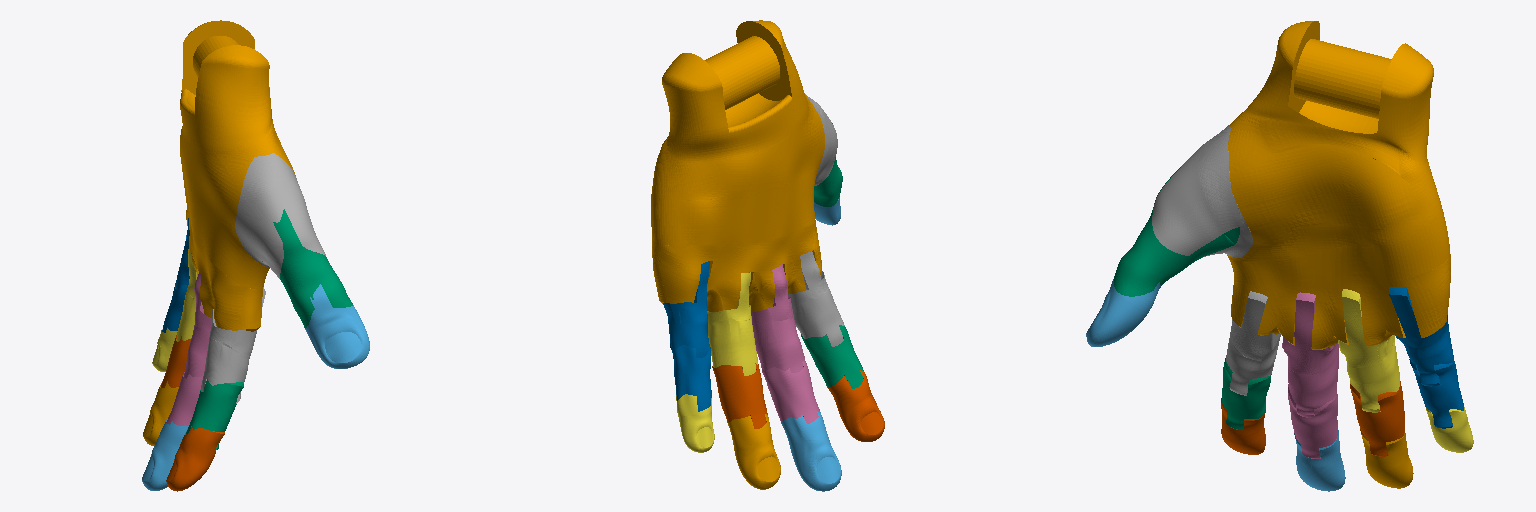
--- Facts derived from the render (not from the file) ---
The picture shows the robot from 3 angles, left to right: view 1: azimuth 30°, elevation 25°; view 2: azimuth 150°, elevation 25°; view 3: azimuth 270°, elevation 25°; orthographic projection.
Model Hand with 16 links and 15 joints (14 revolute, 1 continuous), rooted at base_link, posed all joints at 0.
Links seen in each view (by area): view 1: base_link, bottom1, middle1, top1, bottom2, top2, middle2, top3, bottom3, middle3, top4, bottom4 (+3 smaller); view 2: base_link, bottom3, bottom4, top3, bottom2, top4, middle4, bottom5, top2, middle3, middle2, middle5 (+3 smaller); view 3: base_link, bottom1, bottom3, bottom4, middle1, bottom2, bottom5, top1, middle4, middle3, middle5, middle2 (+4 smaller).
Boxes of the visible links, <box> form: base_link: <box>180,20,295,331</box>; bottom1: <box>235,153,325,278</box>; middle1: <box>273,209,352,328</box>; top1: <box>305,284,369,368</box>; bottom2: <box>202,287,265,403</box>; top2: <box>166,427,224,491</box>; middle2: <box>186,379,243,450</box>; top3: <box>142,419,188,490</box>; bottom3: <box>184,272,211,378</box>; middle3: <box>166,372,202,425</box>; top4: <box>143,381,178,445</box>; bottom4: <box>176,249,196,341</box>; base_link: <box>651,20,824,311</box>; bottom3: <box>751,264,804,372</box>; bottom4: <box>707,272,757,375</box>; top3: <box>781,412,841,491</box>; bottom2: <box>788,251,844,346</box>; top4: <box>727,414,780,489</box>; middle4: <box>712,363,767,428</box>; bottom5: <box>663,261,709,358</box>; top2: <box>826,370,884,441</box>; middle3: <box>762,361,819,423</box>; middle2: <box>801,325,863,388</box>; middle5: <box>670,343,711,411</box>; base_link: <box>1227,21,1450,349</box>; bottom1: <box>1152,125,1252,257</box>; bottom3: <box>1282,292,1338,417</box>; bottom4: <box>1338,289,1399,412</box>; middle1: <box>1114,167,1239,296</box>; bottom2: <box>1226,291,1280,395</box>; bottom5: <box>1389,287,1453,386</box>; top1: <box>1086,279,1162,346</box>; middle4: <box>1350,381,1404,456</box>; middle3: <box>1288,387,1337,458</box>; middle5: <box>1409,359,1463,428</box>; middle2: <box>1222,358,1271,429</box>.
Size in the robot's own frame: 0.0881 by 0.1638 by 0.2358 metres.
16 mesh visuals loaded from 16 distinct referenced files (16 binary STL).

The robot description file, URDF, robot "Hand":
<?xml version='1.0' encoding='utf-8'?>
<robot name="Hand">
    <link name="base_link">
        <inertial>
            <origin xyz="0 0 -1.0" rpy="0.0 0.0 0.0" />
            <mass value="0.5100349823948467" />
            <inertia ixx="0.0008264391413677037" iyy="0.0006620165894960207" izz="0.00032072896517467504" ixy="-7.216347413324594e-05" iyz="-1.524717920817281e-05" ixz="-1.6330394397429294e-05" />
        </inertial>
        <visual name="base_link_visual">
            <origin xyz="0.0 0.0 -1.0" rpy="0.0 0.0 0.0" />
            <geometry>
                <mesh filename="package://hand_model/meshes/base_link.stl" scale="0.001 0.001 0.001" />
            </geometry>
        </visual>
        <collision name="base_link_collision">
            <origin xyz="0.0 0.0 -1.0" rpy="0.0 0.0 0.0" />
            <geometry>
                <mesh filename="package://hand_model/meshes/base_link.stl" scale="0.001 0.001 0.001" />
            </geometry>
        </collision>
    </link>

    <link name="top3">
        <inertial>
            <origin xyz="0.012722847422286049 -0.00128694174633178 0.010404489905321376" rpy="0.0 -1.3444106938820257e-17 0.0" />
            <mass value="0.015457680314432174" />
            <inertia ixx="1.3767339255469641e-06" iyy="2.0192602348552422e-06" izz="1.5080128355590018e-06" ixy="-1.2928118516762063e-07" iyz="-1.7465017772232958e-07" ixz="-6.883034222103327e-07" />
        </inertial>
        <visual name="top3_visual">
            <origin xyz="-0.9826602197979958 -0.27911686466524055 -0.4586221621519428" rpy="-2.821296675084833 -0.8814906431629753 3.0671544154857164" />
            <geometry>
                <mesh filename="package://hand_model/meshes/top3.stl" scale="0.001 0.001 0.001" />
            </geometry>
        </visual>
        <collision name="top3_collision">
            <origin xyz="-0.9826602197979958 -0.27911686466524055 -0.4586221621519428" rpy="-2.821296675084833 -0.8814906431629753 3.0671544154857164" />
            <geometry>
                <mesh filename="package://hand_model/meshes/top3.stl" scale="0.001 0.001 0.001" />
            </geometry>
        </collision>
    </link>
    <link name="middle2">
        <inertial>
            <origin xyz="0.009897910365367081 -0.0019495856220897291 0.008051387989834789" rpy="2.7755575615628914e-17 -1.0755285551056204e-16 -1.3877787807814457e-17" />
            <mass value="0.012894076039031952" />
            <inertia ixx="1.2383161774340025e-06" iyy="1.770745435866814e-06" izz="1.2535590070501384e-06" ixy="-1.0663723407389906e-07" iyz="-1.5170089516659183e-07" ixz="-5.96042439131418e-07" />
        </inertial>
        <visual name="middle2_visual">
            <origin xyz="-0.8715447520348123 -0.4017387039656658 -0.5135323715609377" rpy="-2.6999739724546887 -0.7614179946547722 3.1014950946903546" />
            <geometry>
                <mesh filename="package://hand_model/meshes/middle2.stl" scale="0.001 0.001 0.001" />
            </geometry>
        </visual>
        <collision name="middle2_collision">
            <origin xyz="-0.8715447520348123 -0.4017387039656658 -0.5135323715609377" rpy="-2.6999739724546887 -0.7614179946547722 3.1014950946903546" />
            <geometry>
                <mesh filename="package://hand_model/meshes/middle2.stl" scale="0.001 0.001 0.001" />
            </geometry>
        </collision>
    </link>
    <link name="bottom4">
        <inertial>
            <origin xyz="0.010811403191642423 0.00224597862022923 -0.01564084176257158" rpy="0.0 -5.854691731421724e-18 3.469446951953614e-18" />
            <mass value="0.03121668753846123" />
            <inertia ixx="8.729715306256465e-06" iyy="1.1469907494107448e-05" izz="4.0751613499876614e-06" ixy="5.366721618331331e-07" iyz="-4.309595046802435e-07" ixz="3.816306159498013e-06" />
        </inertial>
        <visual name="bottom4_visual">
            <origin xyz="-0.7039898824469819 0.03129781373543221 0.7650539139115412" rpy="0.0006105661208870561 0.5058939835595102 -3.135054182502079" />
            <geometry>
                <mesh filename="package://hand_model/meshes/bottom4.stl" scale="0.001 0.001 0.001" />
            </geometry>
        </visual>
        <collision name="bottom4_collision">
            <origin xyz="-0.7039898824469819 0.03129781373543221 0.7650539139115412" rpy="0.0006105661208870561 0.5058939835595102 -3.135054182502079" />
            <geometry>
                <mesh filename="package://hand_model/meshes/bottom4.stl" scale="0.001 0.001 0.001" />
            </geometry>
        </collision>
    </link>
    <link name="bottom5">
        <inertial>
            <origin xyz="0.008387131224167304 0.0023328620201057194 -0.010796235093659332" rpy="2.7755575615628914e-17 1.5612511283791264e-17 -6.938893903907228e-18" />
            <mass value="0.022067815971275464" />
            <inertia ixx="5.1544258047036e-06" iyy="6.8385225449267365e-06" izz="2.436128476108711e-06" ixy="3.6456796451971264e-07" iyz="-3.069038826270734e-07" ixz="2.311217830557317e-06" />
        </inertial>
        <visual name="bottom5_visual">
            <origin xyz="-0.6807272860259849 -0.06007375942433248 0.7705833693382032" rpy="-0.11178738593831096 0.49368468926477677 -3.135434766464421" />
            <geometry>
                <mesh filename="package://hand_model/meshes/bottom5.stl" scale="0.001 0.001 0.001" />
            </geometry>
        </visual>
        <collision name="bottom5_collision">
            <origin xyz="-0.6807272860259849 -0.06007375942433248 0.7705833693382032" rpy="-0.11178738593831096 0.49368468926477677 -3.135434766464421" />
            <geometry>
                <mesh filename="package://hand_model/meshes/bottom5.stl" scale="0.001 0.001 0.001" />
            </geometry>
        </collision>
    </link>
    <link name="middle4">
        <inertial>
            <origin xyz="0.008904628907913157 -0.0023792700350409235 0.009796418079486892" rpy="-1.7347234759768075e-18 3.6730736724735486e-17 0.0" />
            <mass value="0.015555655288689765" />
            <inertia ixx="1.8169687685419424e-06" iyy="2.301963124214806e-06" izz="1.3886711238762299e-06" ixy="-5.963028569079452e-08" iyz="-1.4456990212619745e-07" ixz="-7.177123697304761e-07" />
        </inertial>
        <visual name="middle4_visual">
            <origin xyz="-0.8981125742970325 -0.16224186999271287 -0.5842122409040806" rpy="-2.9761268465236808 -0.7551383132902398 3.086243328301658" />
            <geometry>
                <mesh filename="package://hand_model/meshes/middle4.stl" scale="0.001 0.001 0.001" />
            </geometry>
        </visual>
        <collision name="middle4_collision">
            <origin xyz="-0.8981125742970325 -0.16224186999271287 -0.5842122409040806" rpy="-2.9761268465236808 -0.7551383132902398 3.086243328301658" />
            <geometry>
                <mesh filename="package://hand_model/meshes/middle4.stl" scale="0.001 0.001 0.001" />
            </geometry>
        </collision>
    </link>
    <link name="bottom3">
        <inertial>
            <origin xyz="0.013150412773647528 0.0017898924662042438 -0.016454167338748386" rpy="0.0 -4.77048955893622e-17 0.0" />
            <mass value="0.033922844690294" />
            <inertia ixx="9.475880307975722e-06" iyy="1.3211205775148363e-05" izz="5.291106614505465e-06" ixy="7.785935345204304e-07" iyz="-6.514017184390998e-07" ixz="4.784597843700844e-06" />
        </inertial>
        <visual name="bottom3_visual">
            <origin xyz="-0.7127987562873164 0.18352940499571319 0.744599577650552" rpy="0.17202564981256852 0.5148485227284503 -3.1348392594323253" />
            <geometry>
                <mesh filename="package://hand_model/meshes/bottom3.stl" scale="0.001 0.001 0.001" />
            </geometry>
        </visual>
        <collision name="bottom3_collision">
            <origin xyz="-0.7127987562873164 0.18352940499571319 0.744599577650552" rpy="0.17202564981256852 0.5148485227284503 -3.1348392594323253" />
            <geometry>
                <mesh filename="package://hand_model/meshes/bottom3.stl" scale="0.001 0.001 0.001" />
            </geometry>
        </collision>
    </link>
    <link name="bottom2">
        <inertial>
            <origin xyz="0.011607949282749832 0.002018514424223734 -0.014723463122190965" rpy="-5.551115123125784e-17 4.8572257327350605e-17 -1.387778780781446e-17" />
            <mass value="0.027465568394231393" />
            <inertia ixx="5.723367108825129e-06" iyy="8.390834206638332e-06" izz="3.839477878394764e-06" ixy="5.154900593173449e-07" iyz="-5.137574394737419e-07" ixz="3.0787847825931942e-06" />
        </inertial>
        <visual name="bottom2_visual">
            <origin xyz="-0.6992500006784795 0.3378983479685196 0.7042349780325489" rpy="0.35043295932862323 0.5150946878028021 -3.134833725138547" />
            <geometry>
                <mesh filename="package://hand_model/meshes/bottom2.stl" scale="0.001 0.001 0.001" />
            </geometry>
        </visual>
        <collision name="bottom2_collision">
            <origin xyz="-0.6992500006784795 0.3378983479685196 0.7042349780325489" rpy="0.35043295932862323 0.5150946878028021 -3.134833725138547" />
            <geometry>
                <mesh filename="package://hand_model/meshes/bottom2.stl" scale="0.001 0.001 0.001" />
            </geometry>
        </collision>
    </link>
    <link name="top4">
        <inertial>
            <origin xyz="0.010549139605718771 -0.0019865220204782676 0.010271658711580934" rpy="0.0 5.155720143347475e-17 -4.336808689942018e-19" />
            <mass value="0.013310515404494102" />
            <inertia ixx="1.212129520237912e-06" iyy="1.6172615704585132e-06" izz="1.1065835046493355e-06" ixy="-5.585709035649865e-08" iyz="-1.3579006402603228e-07" ixz="-5.485899176994765e-07" />
        </inertial>
        <visual name="top4_visual">
            <origin xyz="-0.9793509683457786 -0.19789376621583887 -0.4806710188165299" rpy="-2.9070597443918897 -0.8763543350248644 3.0486591715302844" />
            <geometry>
                <mesh filename="package://hand_model/meshes/top4.stl" scale="0.001 0.001 0.001" />
            </geometry>
        </visual>
        <collision name="top4_collision">
            <origin xyz="-0.9793509683457786 -0.19789376621583887 -0.4806710188165299" rpy="-2.9070597443918897 -0.8763543350248644 3.0486591715302844" />
            <geometry>
                <mesh filename="package://hand_model/meshes/top4.stl" scale="0.001 0.001 0.001" />
            </geometry>
        </collision>
    </link>
    <link name="top1">
        <inertial>
            <origin xyz="-0.012157896215772875 -0.008204726076153754 -0.006769146817400693" rpy="0.0 -5.551115123125784e-17 -5.551115123125784e-17" />
            <mass value="0.019954580010062253" />
            <inertia ixx="1.4509862773937772e-06" iyy="2.9414096881953024e-06" izz="2.846923228144692e-06" ixy="-5.926966252394887e-07" iyz="-2.590373933094085e-07" ixz="-4.600128771796429e-07" />
        </inertial>
        <visual name="top1_visual">
            <origin xyz="0.31105317131862736 0.7483137335006705 0.4933879494934668" rpy="0.9038861888392605 -1.0148931900481832 -3.141592653154538" />
            <geometry>
                <mesh filename="package://hand_model/meshes/top1.stl" scale="0.001 0.001 0.001" />
            </geometry>
        </visual>
        <collision name="top1_collision">
            <origin xyz="0.31105317131862736 0.7483137335006705 0.4933879494934668" rpy="0.9038861888392605 -1.0148931900481832 -3.141592653154538" />
            <geometry>
                <mesh filename="package://hand_model/meshes/top1.stl" scale="0.001 0.001 0.001" />
            </geometry>
        </collision>
    </link>
    <link name="middle1">
        <inertial>
            <origin xyz="-0.011420169791564518 0.004248100995531532 0.010150499612784173" rpy="5.551115123125784e-17 5.551115123125783e-17 0.0" />
            <mass value="0.03381363911413602" />
            <inertia ixx="5.331797271140053e-06" iyy="1.1966282189119098e-05" izz="1.074353962055799e-05" ixy="1.6085547894548185e-06" iyz="-2.3677503570863726e-07" ixz="3.807882296273688e-06" />
        </inertial>
        <visual name="middle1_visual">
            <origin xyz="0.4039031114199423 -0.7347273080629885 -0.5375032123922654" rpy="-2.2377064667889512 1.0148931896685192 -3.141592653275962" />
            <geometry>
                <mesh filename="package://hand_model/meshes/middle1.stl" scale="0.001 0.001 0.001" />
            </geometry>
        </visual>
        <collision name="middle1_collision">
            <origin xyz="0.4039031114199423 -0.7347273080629885 -0.5375032123922654" rpy="-2.2377064667889512 1.0148931896685192 -3.141592653275962" />
            <geometry>
                <mesh filename="package://hand_model/meshes/middle1.stl" scale="0.001 0.001 0.001" />
            </geometry>
        </collision>
    </link>
    <link name="top5">
        <inertial>
            <origin xyz="0.006930764203473916 -0.003411427648764822 0.008111912489469556" rpy="0.0 6.591949208711867e-17 6.938893903907228e-18" />
            <mass value="0.006361644328949596" />
            <inertia ixx="3.9472716943438824e-07" iyy="4.5599028551733524e-07" izz="3.138960134866866e-07" ixy="6.501984990174955e-09" iyz="-2.8796465862774348e-08" ixz="-1.3949874886430878e-07" />
        </inertial>
        <visual name="top5_visual">
            <origin xyz="-0.9574646970815393 -0.05283951950985741 -0.5155866399551612" rpy="-3.0866854775642074 -0.8592967499348987 3.067535967295966" />
            <geometry>
                <mesh filename="package://hand_model/meshes/top5.stl" scale="0.001 0.001 0.001" />
            </geometry>
        </visual>
        <collision name="top5_collision">
            <origin xyz="-0.9574646970815393 -0.05283951950985741 -0.5155866399551612" rpy="-3.0866854775642074 -0.8592967499348987 3.067535967295966" />
            <geometry>
                <mesh filename="package://hand_model/meshes/top5.stl" scale="0.001 0.001 0.001" />
            </geometry>
        </collision>
    </link>
    <link name="middle5">
        <inertial>
            <origin xyz="0.008169789311035585 -0.002909390967438461 0.010806742385068015" rpy="0.0 1.0408340855860843e-17 0.0" />
            <mass value="0.01033080253467171" />
            <inertia ixx="1.1045985679062774e-06" iyy="1.3078463529281819e-06" izz="6.275960820679677e-07" ixy="-1.0082647603562371e-08" iyz="-6.256522861975528e-08" ixz="-4.0237240194382075e-07" />
        </inertial>
        <visual name="middle5_visual">
            <origin xyz="-0.8744704852903972 -0.018548161358261202 -0.6086957463796747" rpy="3.1329123390534406 -0.7385629854566068 3.101205379775466" />
            <geometry>
                <mesh filename="package://hand_model/meshes/middle5.stl" scale="0.001 0.001 0.001" />
            </geometry>
        </visual>
        <collision name="middle5_collision">
            <origin xyz="-0.8744704852903972 -0.018548161358261202 -0.6086957463796747" rpy="3.1329123390534406 -0.7385629854566068 3.101205379775466" />
            <geometry>
                <mesh filename="package://hand_model/meshes/middle5.stl" scale="0.001 0.001 0.001" />
            </geometry>
        </collision>
    </link>
    <link name="top2">
        <inertial>
            <origin xyz="0.011014375874718745 6.264344129254918e-05 -0.00806644357987338" rpy="0.0 1.0408340855860844e-17 1.387778780781446e-17" />
            <mass value="0.011905398426448093" />
            <inertia ixx="9.10742131672382e-07" iyy="1.284609959150117e-06" izz="1.0853447933981294e-06" ixy="1.4528681231121873e-07" iyz="-1.648175681455327e-07" ixz="4.2560882942161996e-07" />
        </inertial>
        <visual name="top2_visual">
            <origin xyz="-0.9409475077166651 0.4371033172282726 0.40029678085112863" rpy="0.5115209459684782 0.8826221153351123 -3.064082137820175" />
            <geometry>
                <mesh filename="package://hand_model/meshes/top2.stl" scale="0.001 0.001 0.001" />
            </geometry>
        </visual>
        <collision name="top2_collision">
            <origin xyz="-0.9409475077166651 0.4371033172282726 0.40029678085112863" rpy="0.5115209459684782 0.8826221153351123 -3.064082137820175" />
            <geometry>
                <mesh filename="package://hand_model/meshes/top2.stl" scale="0.001 0.001 0.001" />
            </geometry>
        </collision>
    </link>
    <link name="middle3">
        <inertial>
            <origin xyz="0.009857993358788493 -0.002100055755200882 0.009277878034300314" rpy="1.387778780781446e-17 1.3877787807814457e-17 0.0" />
            <mass value="0.015234214046454133" />
            <inertia ixx="1.6150815299867322e-06" iyy="2.2103239389346437e-06" izz="1.454809341142644e-06" ixy="-1.1587163608969487e-07" iyz="-1.5198922571722893e-07" ixz="-7.048813261847734e-07" />
        </inertial>
        <visual name="middle3_visual">
            <origin xyz="-0.9037768126959767 -0.24112480010381226 -0.5674327143979564" rpy="-2.8907236361993673 -0.7601794525405453 3.10420380787357" />
            <geometry>
                <mesh filename="package://hand_model/meshes/middle3.stl" scale="0.001 0.001 0.001" />
            </geometry>
        </visual>
        <collision name="middle3_collision">
            <origin xyz="-0.9037768126959767 -0.24112480010381226 -0.5674327143979564" rpy="-2.8907236361993673 -0.7601794525405453 3.10420380787357" />
            <geometry>
                <mesh filename="package://hand_model/meshes/middle3.stl" scale="0.001 0.001 0.001" />
            </geometry>
        </collision>
    </link>
    <link name="bottom1">
        <inertial>
            <origin xyz="0.0005973884046416278 -0.0017242438082320977 -0.0030832592451406527" rpy="0.0 -0.0 0.0" />
            <mass value="0.07696041767298693" />
            <inertia ixx="2.4595062918152514e-05" iyy="1.5389819558617336e-05" izz="1.995341090815976e-05" ixy="3.333461964349967e-08" iyz="-2.9695765612445345e-06" ixz="-2.2798451643477474e-07" />
        </inertial>
        <visual name="bottom1_visual">
            <origin xyz="-0.24985228238813448 0.9592937271883543 -0.02285108527303292" rpy="1.6042586594408124 0.056674012244977826 3.141592653589777" />
            <geometry>
                <mesh filename="package://hand_model/meshes/bottom1.stl" scale="0.001 0.001 0.001" />
            </geometry>
        </visual>
        <collision name="bottom1_collision">
            <origin xyz="-0.24985228238813448 0.9592937271883543 -0.02285108527303292" rpy="1.6042586594408124 0.056674012244977826 3.141592653589777" />
            <geometry>
                <mesh filename="package://hand_model/meshes/bottom1.stl" scale="0.001 0.001 0.001" />
            </geometry>
        </collision>
    </link>
    <joint name="middle1_KU" type="revolute">
        <origin xyz="-0.03329051154604715 0.0056691735454671216 0.01653561085114117" rpy="-3.141592653063359 -1.2706263818884622e-10 8.473695078947685e-10" />
        <parent link="middle1" />
        <child link="top1" />
        <axis xyz="-0.4482497018934469 0.5277107705976627 0.7215215426642902" />
        <limit lower="-0.436332" upper="0.959931" effort="1000000" velocity="1000000" />
    </joint>
    <joint name="bottom1_KU-1" type="revolute">
        <origin xyz="-0.006497886716454855 -0.006410248046921181 -0.014720017145413343" rpy="2.074616359114212 -0.7454741924566871 0.8406473095198495" />
        <parent link="bottom1" />
        <child link="middle1" />
        <axis xyz="0.44824970135460235 0.5277107705976621 0.7215215429990511" />
        <limit lower="-0.698132" upper="0.349066" effort="1000000" velocity="1000000" />
    </joint>
    <joint name="middle2_WS" type="revolute">
        <origin xyz="0.01757691207037645 0.0038119863486658014 0.017193865823785542" rpy="3.141592653589224 1.8521600919640946e-11 1.9491352976075405e-13" />
        <parent link="middle2" />
        <child link="top2" />
        <axis xyz="0.3086937049153848 0.9452355704536225 0.10600674689296266" />
        <limit lower="-0.261799" upper="0.785398" effort="1000000" velocity="1000000" />
    </joint>
    <joint name="bottom2_WS-1" type="revolute">
        <origin xyz="0.024404982997250312 -0.0042095873336433255 -0.03331865718372294" rpy="3.1277399914537827 0.00031330805782778373 -0.00474083187541125" />
        <parent link="bottom2" />
        <child link="middle2" />
        <axis xyz="-0.3086937049136056 0.9452355704536223 0.10600674689814193" />
        <limit lower="-1.832596" upper="0.261799" effort="1000000" velocity="1000000" />
    </joint>
    <joint name="middle3_SR" type="revolute">
        <origin xyz="0.017732530552521962 0.0035951035258957225 0.019759178922811184" rpy="-6.613598557692062e-13 8.288238151354934e-12 2.2526772114339627e-13" />
        <parent link="middle3" />
        <child link="top3" />
        <axis xyz="-0.30936974866566325 0.9450500314132643 0.10569007787551517" />
        <limit lower="-0.785398" upper="0.261799" effort="1000000" velocity="1000000" />
    </joint>
    <joint name="bottom3_SR-1" type="revolute">
        <origin xyz="0.027113581494251252 -0.0044499533662446114 -0.03906302519820173" rpy="3.1175634119524456 -0.0009293645095261525 -0.008187776742866143" />
        <parent link="bottom3" />
        <child link="middle3" />
        <axis xyz="-0.30936974866500017 0.9450500314132648 0.10569007787745428" />
        <limit lower="-1.832596" upper="0.261799" effort="1000000" velocity="1000000" />
    </joint>
    <joint name="middle4_SE" type="revolute">
        <origin xyz="0.01594516054176924 0.002715488246833069 0.0212812910291532" rpy="-1.3028553930150015e-12 -1.1846795347828216e-11 4.373480744224168e-13" />
        <parent link="middle4" />
        <child link="top4" />
        <axis xyz="-0.2926554467677516 0.9511930924005878 0.09790297557058453" />
        <limit lower="-0.785398" upper="0.261799" effort="1000000" velocity="1000000" />
    </joint>
    <joint name="bottom4_SE-1" type="revolute">
        <origin xyz="0.02251236655784408 -0.0030924942642706088 -0.038217119122635576" rpy="-3.0900173621353253 0.0034809602018023365 0.017281411904359882" />
        <parent link="bottom4" />
        <child link="middle4" />
        <axis xyz="-0.29265544676932753 0.9511930924005877 0.09790297556587826" />
        <limit lower="-1.832596" upper="0.261799" effort="1000000" velocity="1000000" />
    </joint>
    <joint name="middle5_MA" type="revolute">
        <origin xyz="0.01283127102280088 0.0017701385228993472 0.02189366485439974" rpy="4.145073173589252e-12 9.77246235323026e-12 -1.3266610032758308e-12" />
        <parent link="middle5" />
        <child link="top5" />
        <axis xyz="-0.2896063876266676 0.9526455180796969 0.09270712690240507" />
        <limit lower="-0.785398" upper="0.261799" effort="1000000" velocity="1000000" />
    </joint>
    <joint name="bottom5_MA-1" type="revolute">
        <origin xyz="0.018338363889488233 -0.002505404016444679 -0.03162999156880218" rpy="-3.137586863283342 0.0004717843346659632 0.0012818862441283606" />
        <parent link="bottom5" />
        <child link="middle5" />
        <axis xyz="-0.28960638762449786 0.9526455180796967 0.09270712690918398" />
        <limit lower="-1.832596" upper="0.261799" effort="1000000" velocity="1000000" />
    </joint>
    <joint name="base_link_MA-2" type="revolute">
        <origin xyz="0.2603981782149085 0.010921879823065913 -0.08679743255377531" rpy="-0.18178074457398907 0.3044964966838139 3.0865397842145685" />
        <parent link="base_link" />
        <child link="bottom5" />
        <axis xyz="0.2899323001194142 0.9525523908767397 0.09264336578229859" />
        <limit lower="-0.261799" upper="1.308997" effort="1000000" velocity="1000000" />
    </joint>
    <joint name="base_link_SE-2" type="revolute">
        <origin xyz="0.2501169382149088 -0.00996457017693475 -0.09578142255377509" rpy="-0.06726332151535452 0.31922558195560324 3.1204545695926416" />
        <parent link="base_link" />
        <child link="bottom4" />
        <axis xyz="0.29851767390210904 0.9492669453135395 0.09889305917088193" />
        <limit lower="-0.261799" upper="1.308997" effort="1000000" velocity="1000000" />
    </joint>
    <joint name="base_link_SR-2" type="revolute">
        <origin xyz="0.24233605821490906 -0.03060034017693539 -0.10143916255377501" rpy="0.1115347302892938 0.3272720733741607 -3.1056047034534155" />
        <parent link="base_link" />
        <child link="bottom3" />
        <axis xyz="0.3059060146466724 0.94630960509231 0.1044979944641346" />
        <limit lower="-0.261799" upper="1.308997" effort="1000000" velocity="1000000" />
    </joint>
    <joint name="base_link_WS-2" type="revolute">
        <origin xyz="0.23539691821490924 -0.05171734017693605 -0.10119166255377509" rpy="0.29916110767400506 0.3157781665799975 -3.046103020646867" />
        <parent link="base_link" />
        <child link="bottom2" />
        <axis xyz="0.30611319903355017 0.9462242909511116 0.10465863307683937" />
        <limit lower="-0.261799" upper="1.308997" effort="1000000" velocity="1000000" />
    </joint>
    <joint name="base_link_KU-2" type="continuous">
        <origin xyz="0.24425130821490906 -0.06868508017693652 -0.04454194255377609" rpy="1.6042049742593256 -0.001895077027520721 -3.084950300279135" />
        <parent link="base_link" />
        <child link="bottom1" />
        <axis xyz="0.05655307765920811 0.9983949000770433 0.0032081370641184118" />
    </joint>
</robot>
